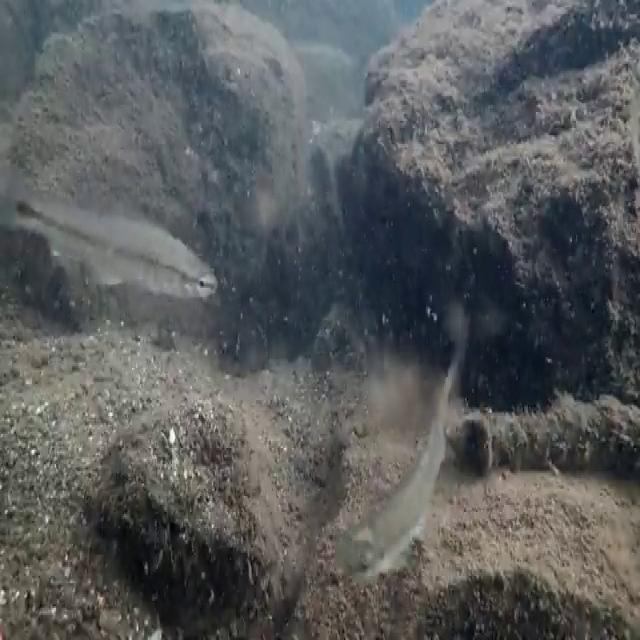Cakil Baligi: (338, 338, 462, 592), (0, 162, 216, 295)
